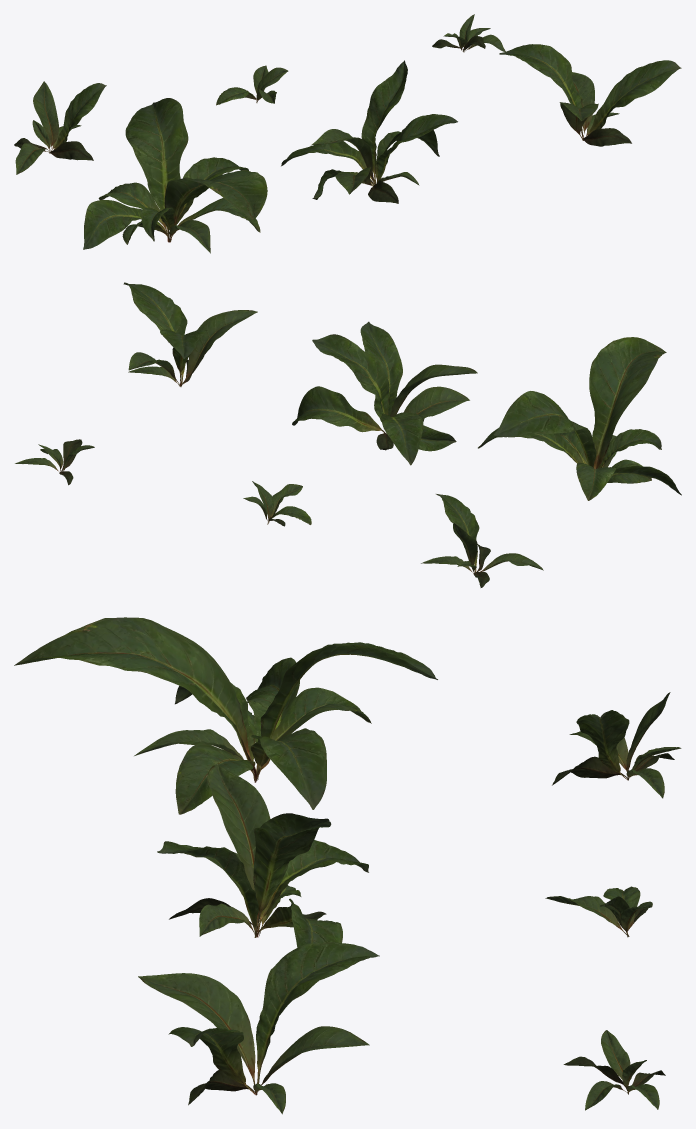
Rendered from anthurium_botany_01.glb.
3 renders of one model, top to bottom at view 1: azimuth 30°, elevation 25°; view 2: azimuth 150°, elevation 25°; view 3: azimuth 270°, elevation 25°, orthographic. The views are drawn at different scales.
Parts seen in each view (by area): view 1: anthurium_botany_01_a; view 2: anthurium_botany_01_a; view 3: anthurium_botany_01_a.
Boxes of the visible parts, <box> form: anthurium_botany_01_a: <box>14,14,681,253</box>; anthurium_botany_01_a: <box>15,282,681,587</box>; anthurium_botany_01_a: <box>14,617,681,1114</box>.
Size of the model in its own units: 2.8 by 0.4994 by 1.8.
Materials: 1 (1 with a texture image).
